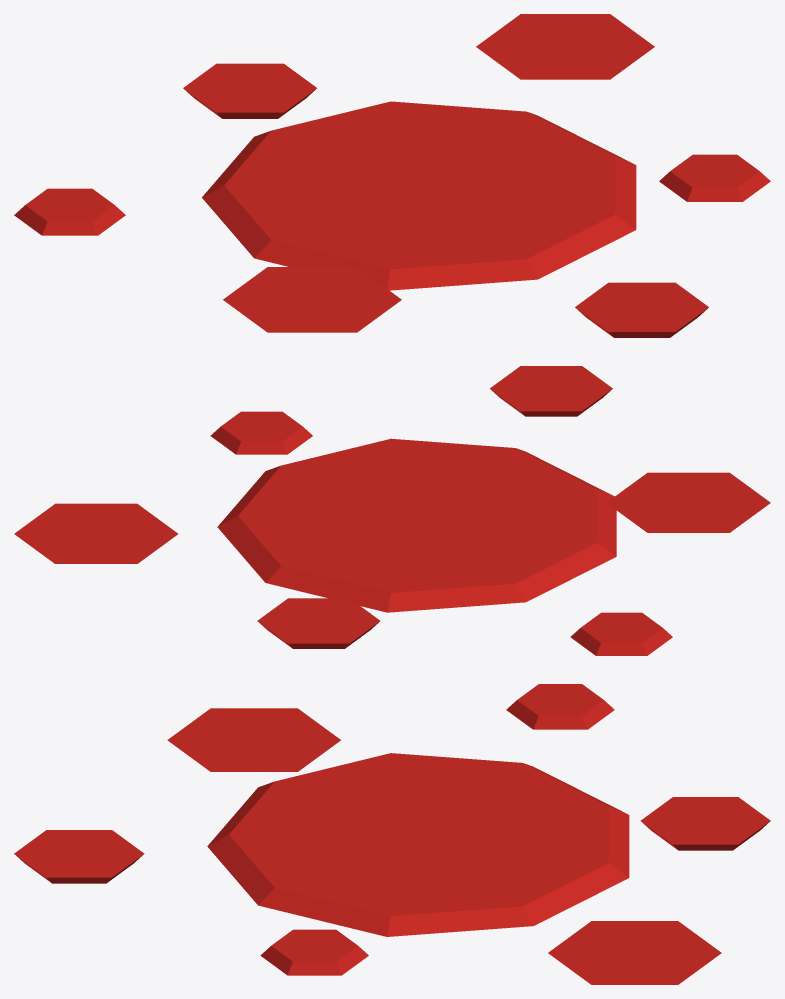
The model's file is splat_tomato.glb.
3 views of the same model, one above another, from view 1: azimuth 30°, elevation 25°; view 2: azimuth 150°, elevation 25°; view 3: azimuth 270°, elevation 25° (orthographic). The views are drawn at different scales.
Parts seen in each view (by area): view 1: splat_splat_tomato_goo; view 2: splat_splat_tomato_goo; view 3: splat_splat_tomato_goo.
Part boxes in pixels (box(x1,y1,x2,y2)): splat_splat_tomato_goo: box(14, 14, 770, 337); splat_splat_tomato_goo: box(14, 366, 770, 655); splat_splat_tomato_goo: box(14, 684, 770, 984).
Bounding box in the file's own units: 0.3313 × 0.006 × 0.3478.
